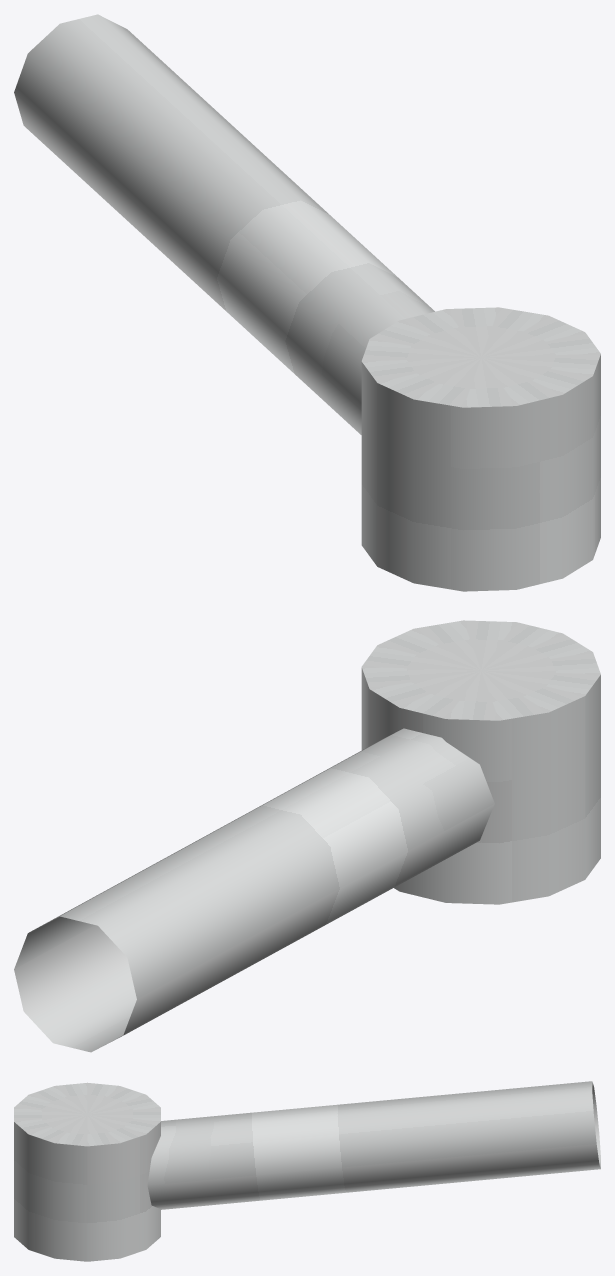
File: trusssignalarm_level12_c1_pedestal.obj
3 views of the same model, one above another, from view 1: azimuth 30°, elevation 25°; view 2: azimuth 150°, elevation 25°; view 3: azimuth 270°, elevation 25° (orthographic). The views are drawn at different scales.
Parts seen in each view (by area): view 1: trusssignalarm_level12_c1_pedestal; view 2: trusssignalarm_level12_c1_pedestal; view 3: trusssignalarm_level12_c1_pedestal.
Part boxes in pixels (bbox=[...]): trusssignalarm_level12_c1_pedestal: bbox=[14, 14, 600, 591]; trusssignalarm_level12_c1_pedestal: bbox=[14, 620, 600, 1052]; trusssignalarm_level12_c1_pedestal: bbox=[14, 1081, 600, 1261].
Size of the model in its own units: 0.4438 by 0.4648 by 1.73.
